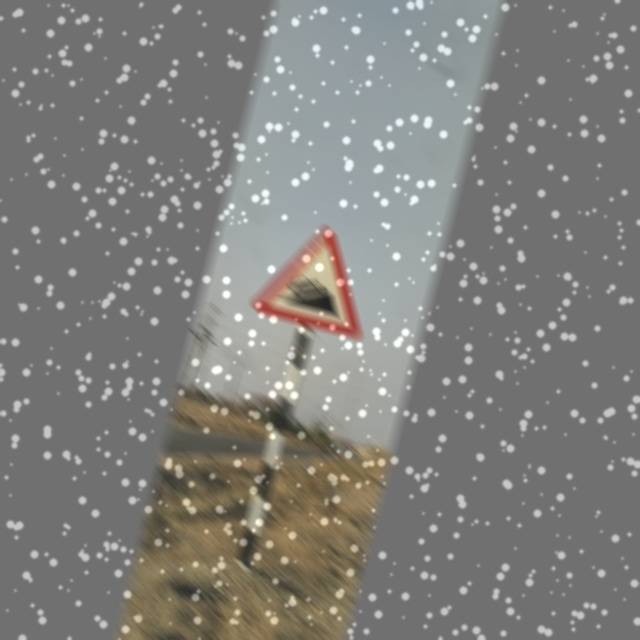Steep_Ascent: (254, 216, 384, 343)
